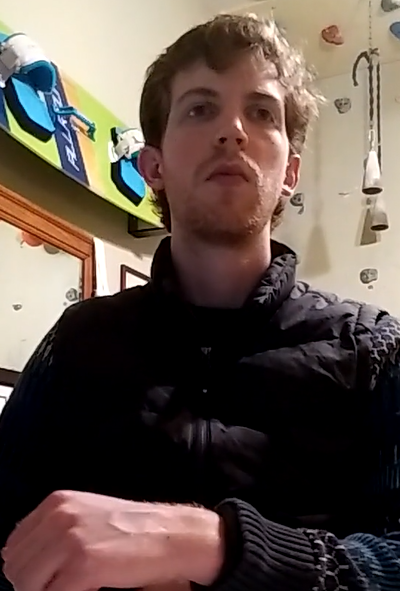Not Sleeping: (171, 91, 288, 137)
